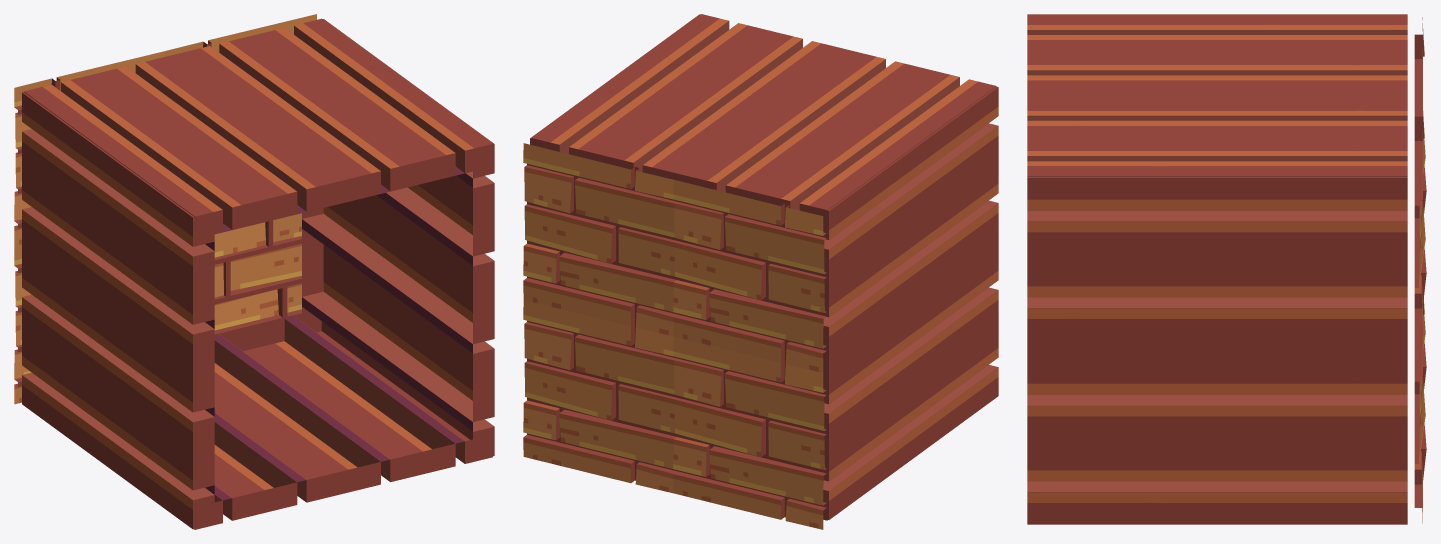
The model's file is Kayu.fbx.
3 views of the same model, side by side, from view 1: azimuth 30°, elevation 25°; view 2: azimuth 150°, elevation 25°; view 3: azimuth 270°, elevation 25° (orthographic). The views are drawn at different scales.
Visible parts, largest first — view 1: Kayu; view 2: Kayu; view 3: Kayu.
Boxes of the visible parts, box(x1,y1,x2,y2) form: Kayu: box(14, 14, 494, 529); Kayu: box(523, 14, 998, 529); Kayu: box(1027, 14, 1426, 524).
Bounding box in the file's own units: 94.81 × 95 × 97.5.
